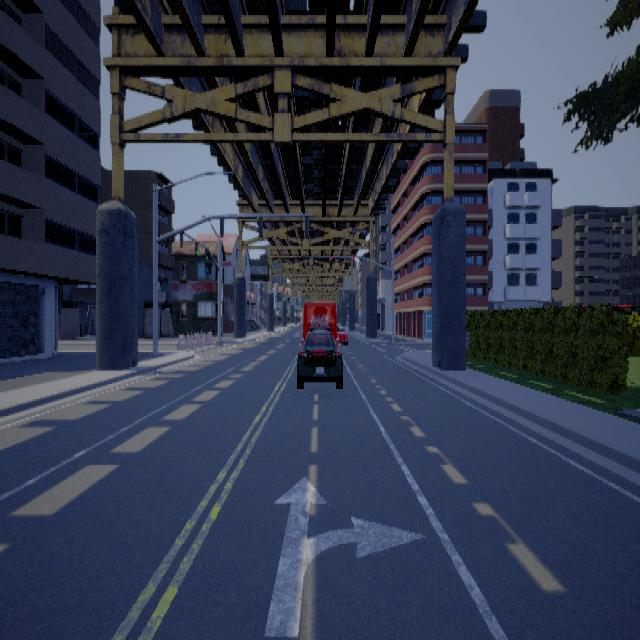red_light: (329, 255, 332, 267), (352, 254, 354, 266)
vehicle: (296, 327, 344, 387), (297, 300, 340, 364)
